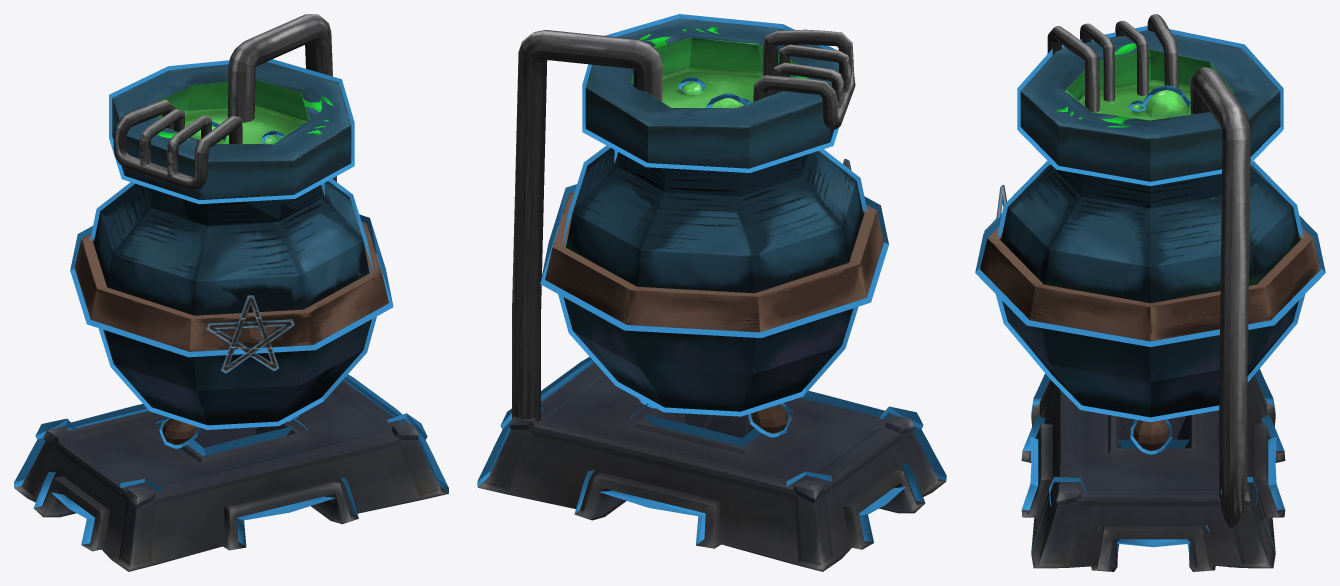
File: cauldron_hover.glb
3 views of the same model, side by side, from view 1: azimuth 30°, elevation 25°; view 2: azimuth 150°, elevation 25°; view 3: azimuth 270°, elevation 25° (orthographic). The views are drawn at different scales.
Visible parts, largest first — view 1: cauldron hover.001; view 2: cauldron hover.001; view 3: cauldron hover.001.
Boxes of the visible parts, x1,y1,x2,y2 form: cauldron hover.001: (14, 14, 448, 571); cauldron hover.001: (477, 14, 946, 571); cauldron hover.001: (975, 14, 1325, 571).
Size of the model in its own units: 0.9992 by 1.2 by 0.8563.
Materials: 13 (7 with a texture image).
